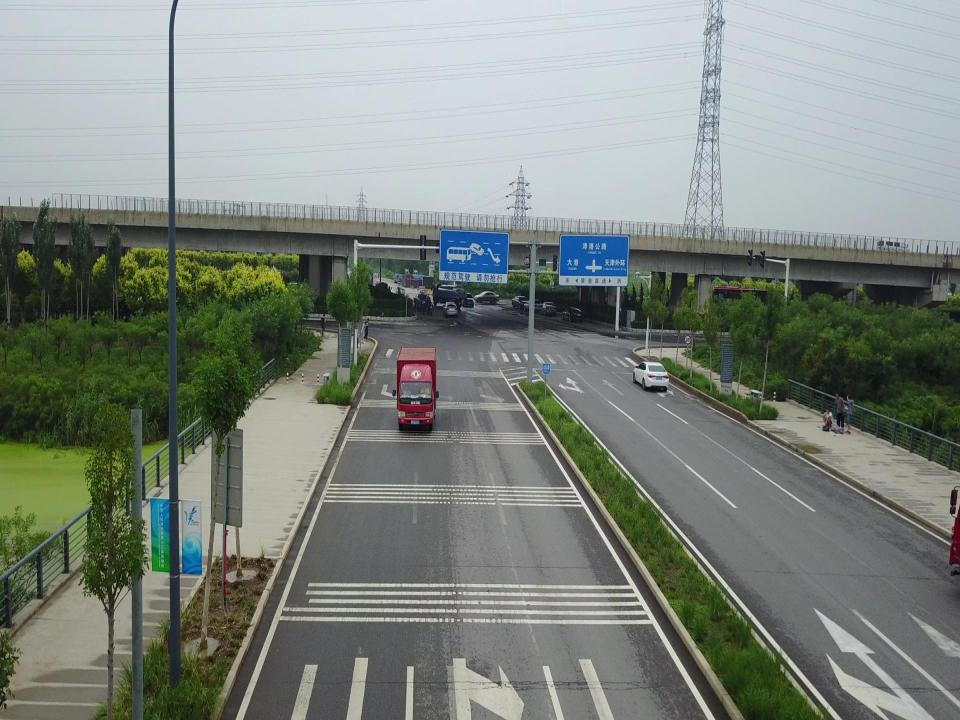car: (631, 361, 669, 393), (560, 304, 582, 322), (474, 290, 500, 305), (414, 290, 432, 308), (510, 294, 530, 308), (522, 300, 541, 314), (442, 300, 458, 316), (538, 300, 556, 314), (461, 293, 475, 308)
truck: (390, 344, 440, 431), (432, 282, 466, 307)
